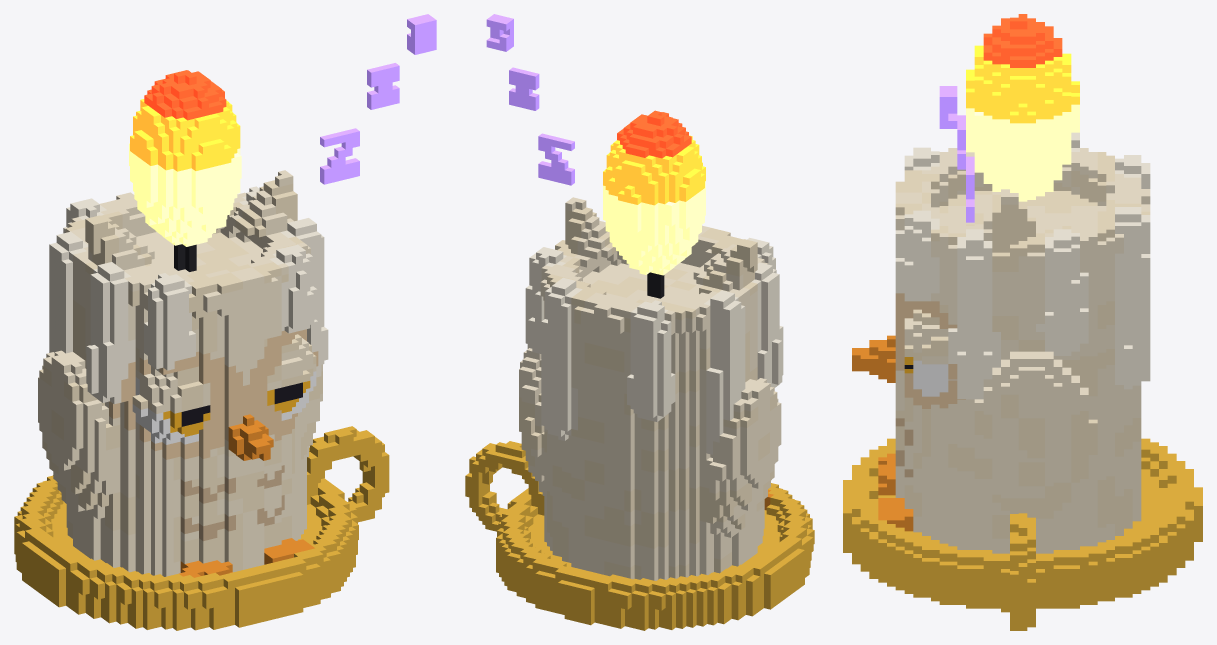
The model's file is candelino_gufetto.glb.
3 renders of one model, left to right at view 1: azimuth 30°, elevation 25°; view 2: azimuth 150°, elevation 25°; view 3: azimuth 270°, elevation 25°, orthographic. The views are drawn at different scales.
Visible parts, largest first — view 1: SM_Brainrot_candelino_gufetto; view 2: SM_Brainrot_candelino_gufetto; view 3: SM_Brainrot_candelino_gufetto.
Boxes of the visible parts, <box> form: SM_Brainrot_candelino_gufetto: <box>14,14,436,630</box>; SM_Brainrot_candelino_gufetto: <box>465,14,814,630</box>; SM_Brainrot_candelino_gufetto: <box>843,14,1202,630</box>.
Bounding box in the file's own units: 3 × 4.14 × 2.46.
Materials: 1 (1 with a texture image).
